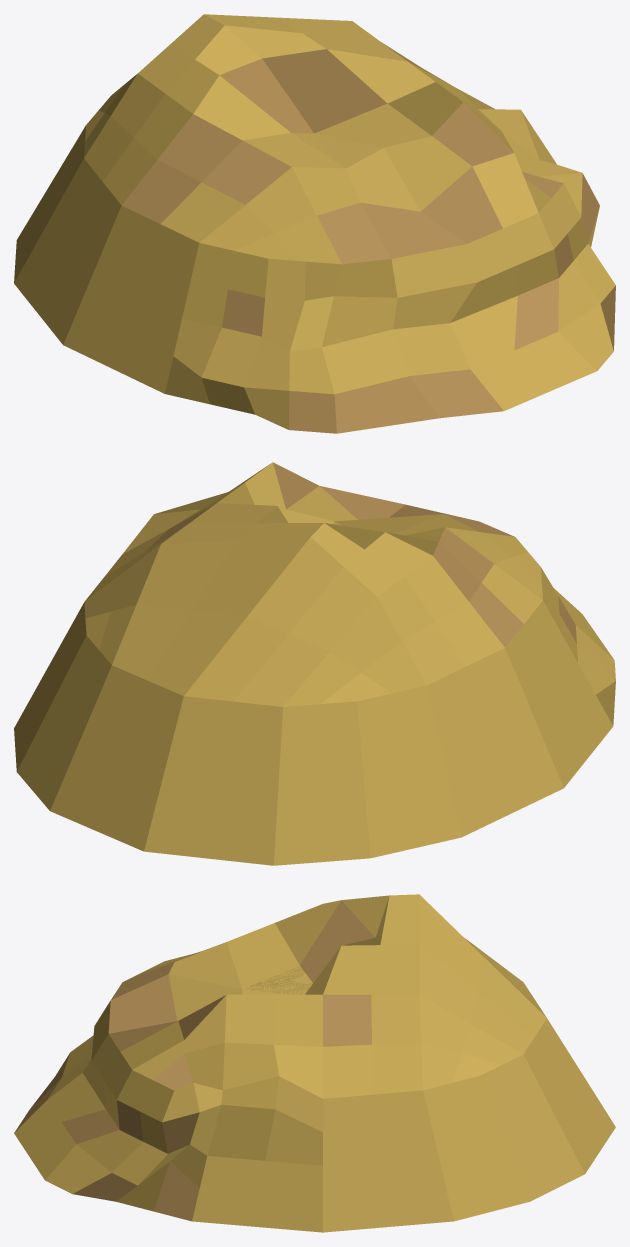
File: hay.fbx
3 renders of one model, top to bottom at view 1: azimuth 30°, elevation 25°; view 2: azimuth 150°, elevation 25°; view 3: azimuth 270°, elevation 25°, orthographic. The views are drawn at different scales.
Visible parts, largest first — view 1: Plane.002; view 2: Plane.002; view 3: Plane.002.
Part boxes in pixels (x1=…): Plane.002: x1=14, y1=14, x2=615, y2=433; Plane.002: x1=14, y1=462, x2=615, y2=865; Plane.002: x1=14, y1=894, x2=615, y2=1232.
Size of the model in its own units: 198 by 94.24 by 239.
